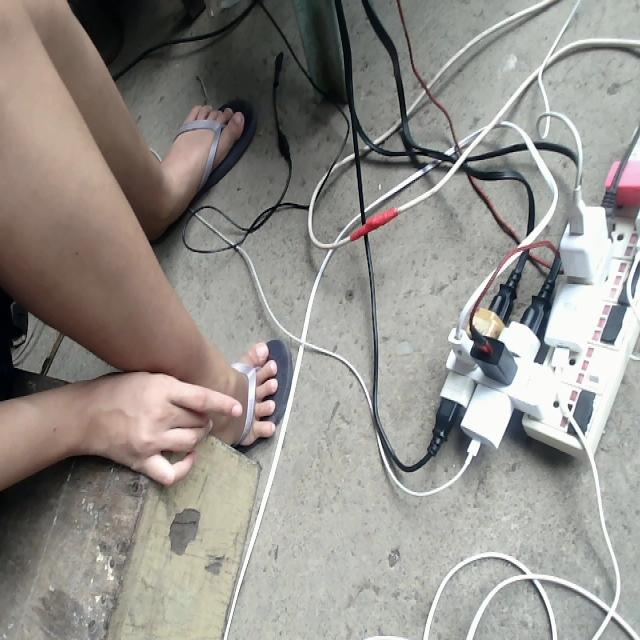-: (423, 153, 639, 471)
